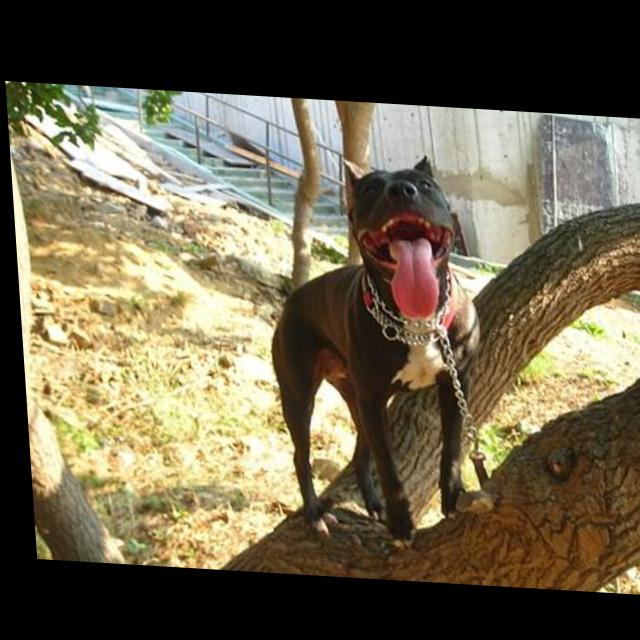amstaff: (257, 142, 491, 546)
